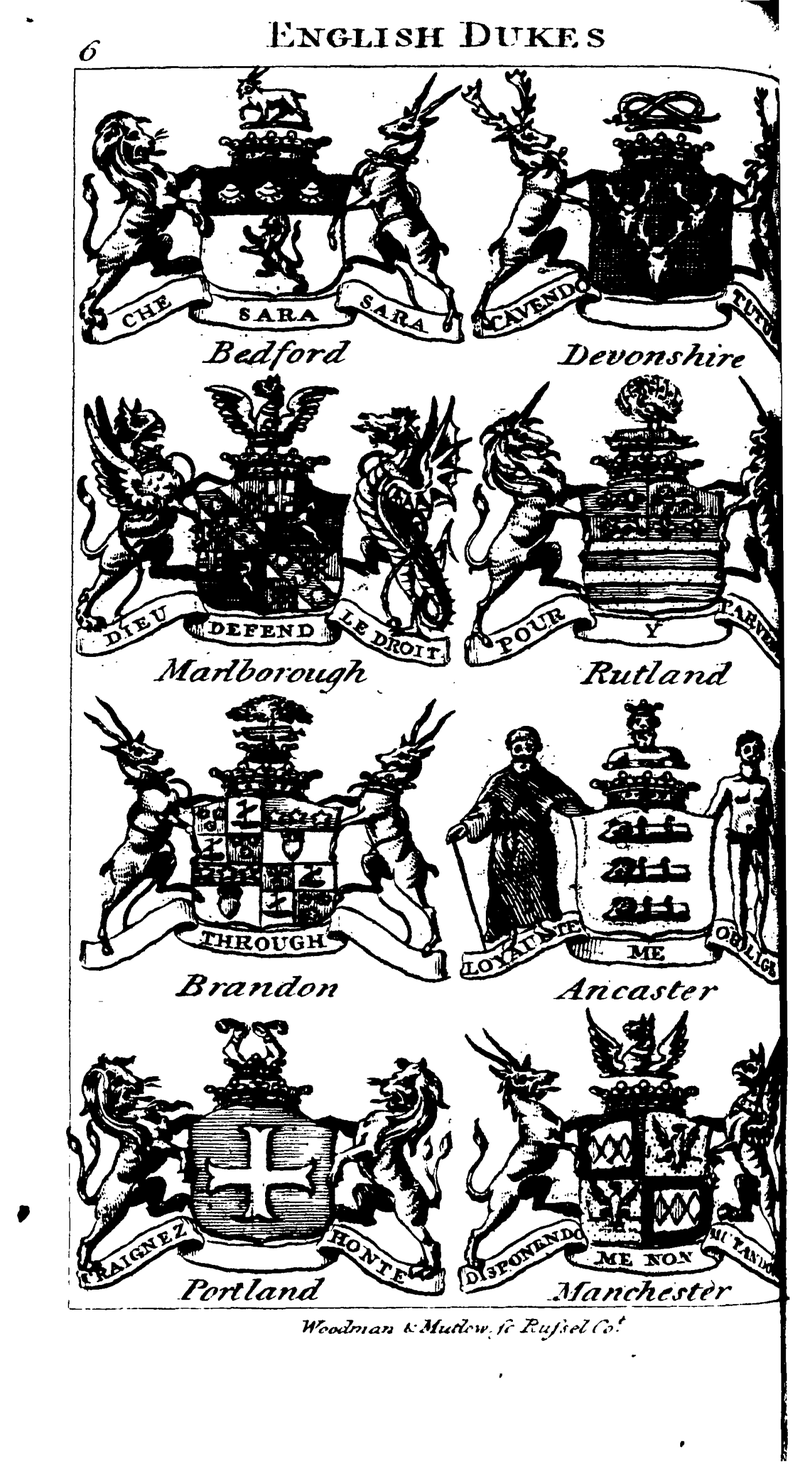coat_of_arms: (83, 681, 455, 1016), (78, 65, 469, 383), (89, 378, 462, 679), (72, 1011, 448, 1304), (453, 694, 796, 1004), (461, 372, 781, 691), (448, 1007, 788, 1307), (463, 72, 785, 373)
